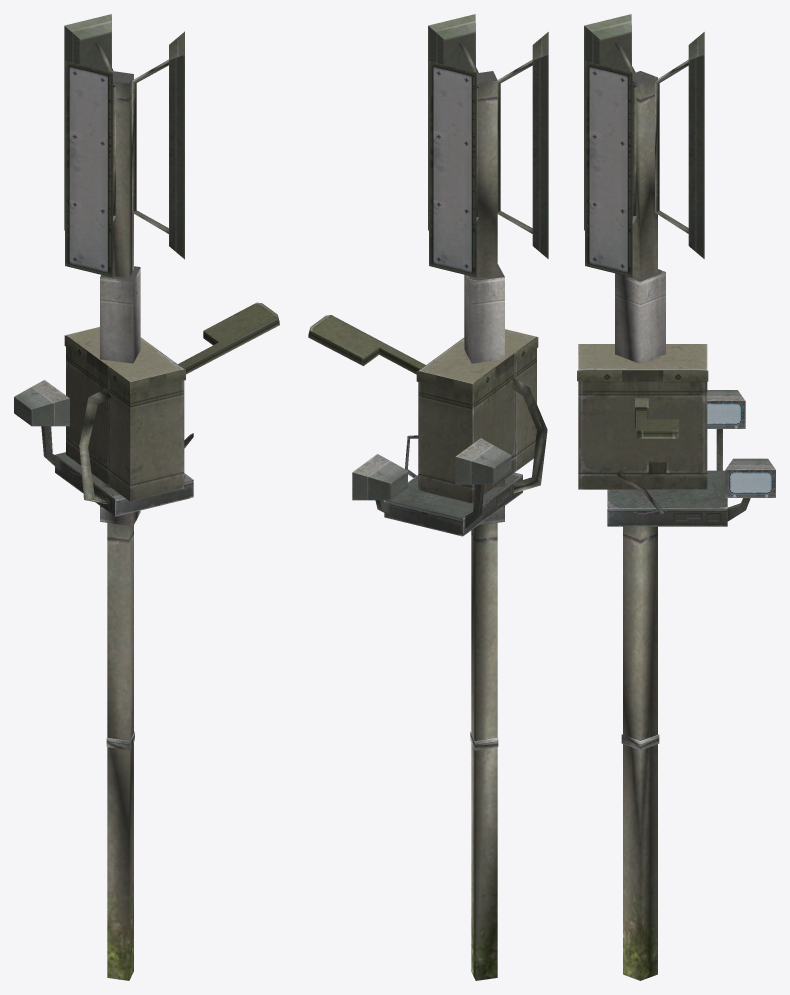
File: Building_Mainexit06_lod1.glb
The picture shows the model from 3 angles, left to right: view 1: azimuth 30°, elevation 25°; view 2: azimuth 150°, elevation 25°; view 3: azimuth 270°, elevation 25°; orthographic projection.
Visible parts, largest first — view 1: xiutz_mainexit_06_lod1; view 2: xiutz_mainexit_06_lod1; view 3: xiutz_mainexit_06_lod1.
Boxes of the visible parts, x1,y1,x2,y2 form: xiutz_mainexit_06_lod1: (14, 14, 279, 980); xiutz_mainexit_06_lod1: (308, 14, 548, 980); xiutz_mainexit_06_lod1: (577, 14, 775, 980).
Size of the model in its own units: 2.14 by 8.68 by 1.68.
1 material, 1 textured.
